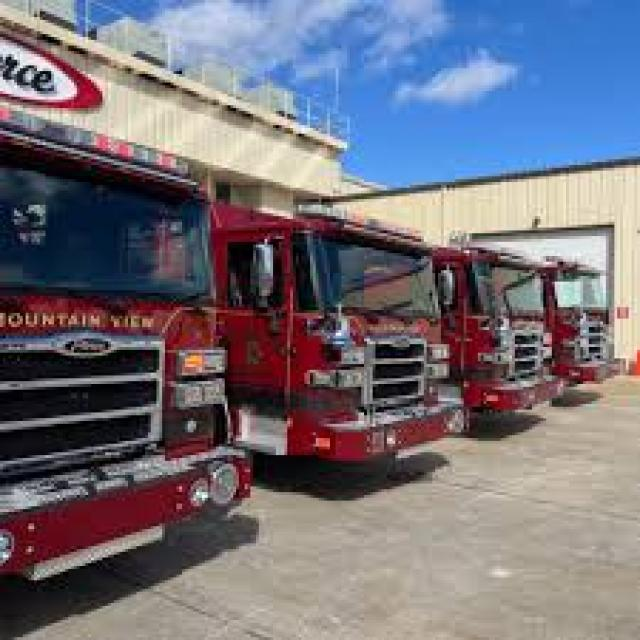Firetruck: (0, 85, 247, 611), (208, 166, 457, 526), (428, 224, 557, 435), (542, 256, 618, 400)
